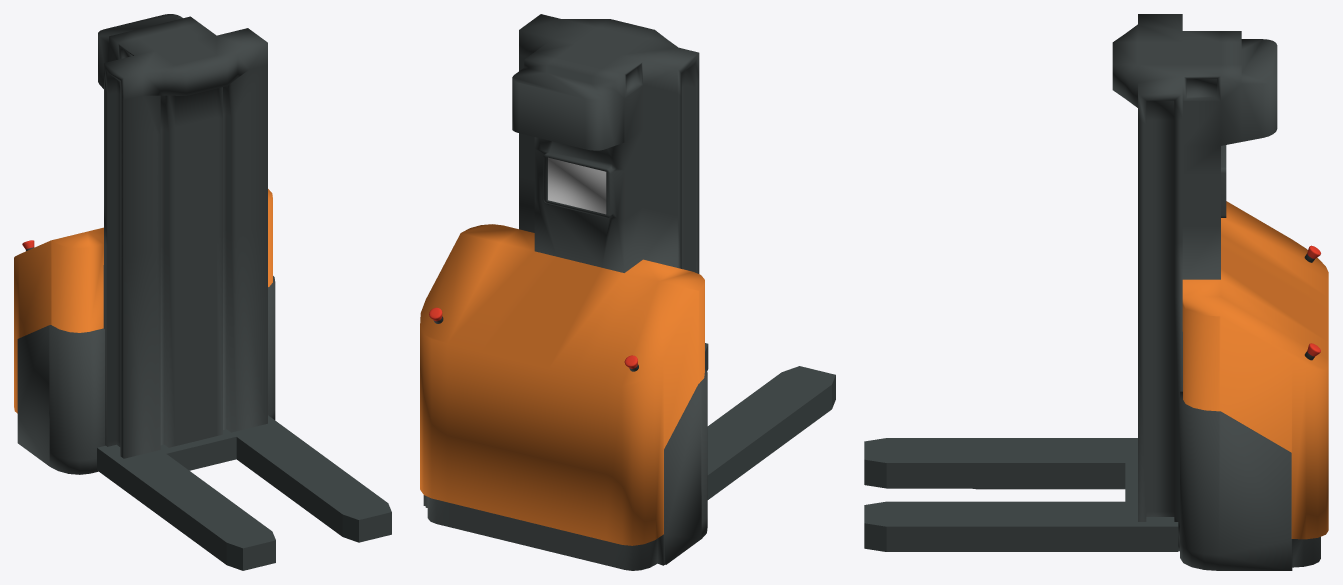
The model's file is forklift.glb.
3 renders of one model, left to right at view 1: azimuth 30°, elevation 25°; view 2: azimuth 150°, elevation 25°; view 3: azimuth 270°, elevation 25°, orthographic. The views are drawn at different scales.
Parts seen in each view (by area): view 1: Cylinder, Cube; view 2: Cylinder, Cube; view 3: Cylinder, Cube.
Boxes of the visible parts, x1,y1,x2,y2 form: Cylinder: (14, 14, 275, 474); Cube: (97, 415, 391, 570); Cylinder: (420, 14, 707, 570); Cube: (705, 343, 835, 499); Cylinder: (973, 14, 1328, 570); Cube: (864, 438, 1178, 551).
Bounding box in the file's own units: 2.04 × 3.61 × 3.31.
2 materials, 1 textured.
